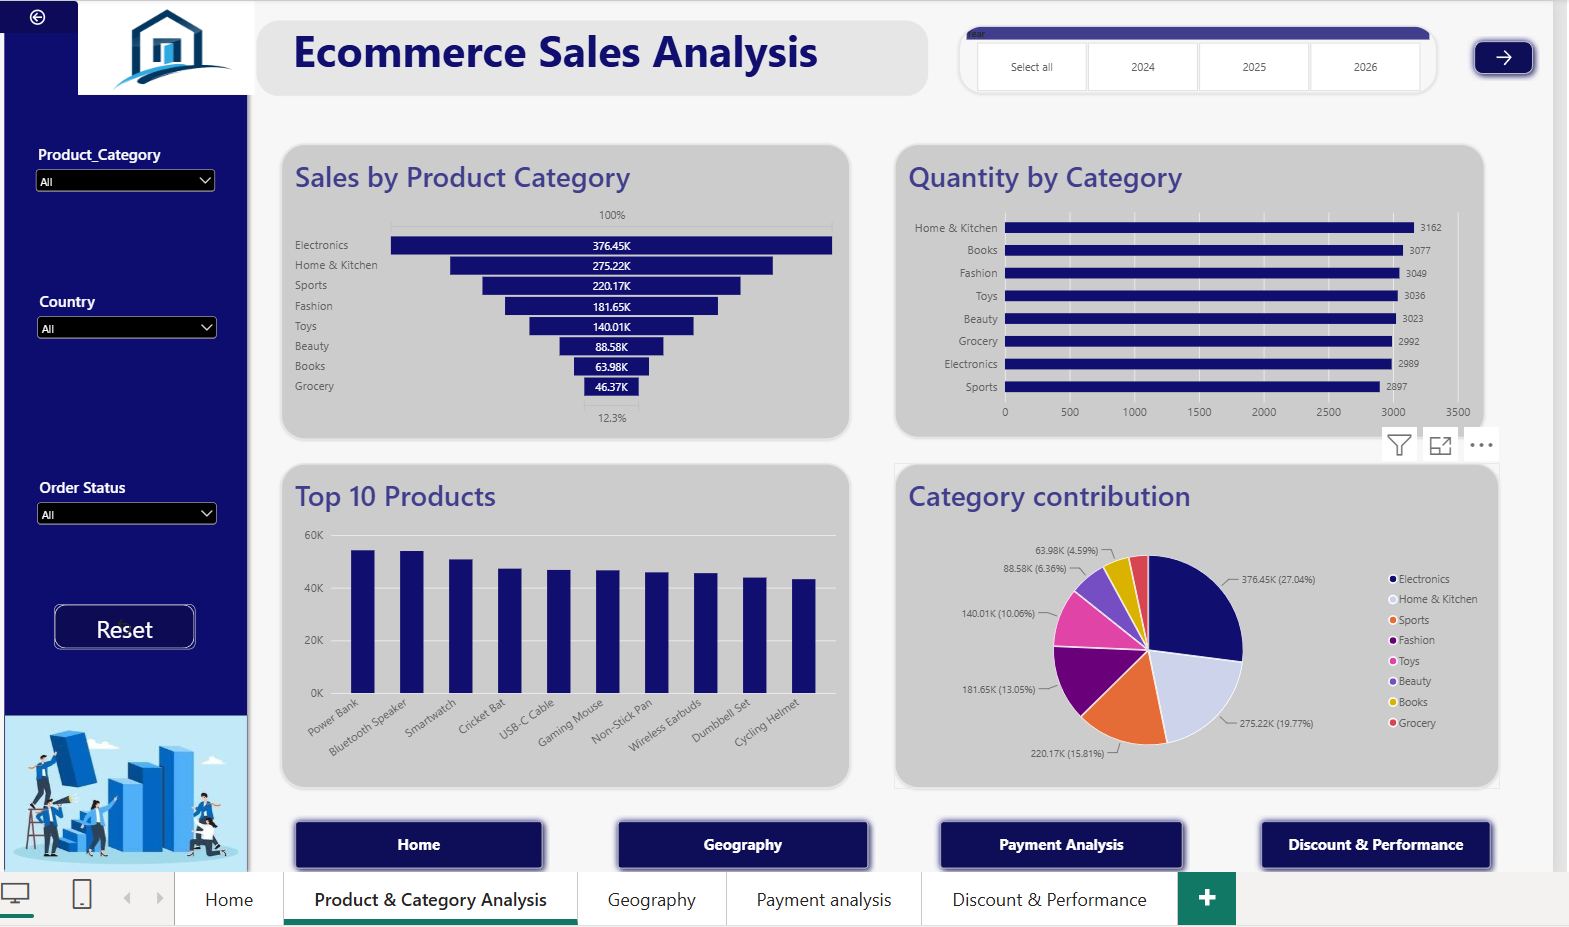

What the dashboard file says about the page in this screenshot:
{"tool":"powerbi","page":{"name":"Product & Category Analysis","canvas":[1920,1080],"ordinal":1},"visuals":[{"type":"textbox","box":[320.3,25,829,93.1],"z":0},{"type":"funnel","title":"Sales by Product Category","fields":{"Category":["product_details.Product_Category"],"Y":["Sales_details.Total_sales"]},"box":[350,176,704,366],"z":1000},{"type":"shape","box":[0,2.9,317.8,1077.5],"z":2000},{"type":"slicer","title":"Total Sales","fields":{"Values":["Sales_details.Order_Date.Variation.Date Hierarchy.Year"]},"box":[1186.3,29.7,591.3,85.3],"z":3000},{"type":"slicer","fields":{"Values":["product_details.Product_Category"]},"box":[42.6,175.3,231.7,153.3],"z":4000},{"type":"slicer","fields":{"Values":["Location_details.Country"]},"box":[45,357.6,231.7,168.3],"z":5000},{"type":"slicer","fields":{"Values":["Sales_details.Order_Status_Consistency"]},"box":[45,587.4,231.7,138.3],"z":6000},{"type":"clusteredBarChart","title":"Quantity by Category","fields":{"Y":["Sales_details.Total Quantity"],"Category":["product_details.Product_Category"]},"box":[1108,176,730,364],"z":7000},{"type":"columnChart","title":"Top 10 Products","fields":{"Category":["product_details.Product_Name"],"Y":["Sales_details.Total_sales"]},"box":[350,570,704,402],"z":8000},{"type":"pieChart","title":"Category contribution","fields":{"Category":["product_details.Product_Category"],"Y":["Sales_details.Total_sales"]},"box":[1108,570,748,402],"z":9000},{"type":"actionButton","box":[0,0,100,40],"z":10000},{"type":"actionButton","box":[1814.3,40.1,90.3,58.2],"z":11000},{"type":"actionButton","title":"Product & Category Analysis","box":[359.3,1003.5,323.1,76.3],"z":12000},{"type":"actionButton","title":"Product & Category Analysis","box":[756.6,1003.5,327.1,76.3],"z":13000},{"type":"actionButton","title":"Product & Category Analysis","box":[1156,1003.5,317.1,76.3],"z":14000},{"type":"actionButton","title":"Product & Category Analysis","box":[1551.4,1003.5,301,76.3],"z":15000},{"type":"actionButton","title":"Reset","box":[71.1,743.7,174.6,56.2],"z":16000},{"type":"image","box":[99.5,0,217.9,116.1],"z":17000},{"type":"image","box":[9.3,882.3,300.3,198.3],"z":18000}]}

Visuals, with their boxes on the page's 1920x1080 design canvas (x1, y1, x2, y2). These are canvas units, not pixel positions in the 1569x927 screenshot, which may show the page scaled, cropped or inside an application window:
textbox: pyautogui.locateOnScreen(320, 25, 1149, 118)
"Sales by Product Category" funnel: pyautogui.locateOnScreen(350, 176, 1054, 542)
shape: pyautogui.locateOnScreen(0, 3, 318, 1080)
"Total Sales" slicer: pyautogui.locateOnScreen(1186, 30, 1778, 115)
slicer - product_details.Product_Category: pyautogui.locateOnScreen(43, 175, 274, 329)
slicer - Location_details.Country: pyautogui.locateOnScreen(45, 358, 277, 526)
slicer - Sales_details.Order_Status_Consistency: pyautogui.locateOnScreen(45, 587, 277, 726)
"Quantity by Category" clusteredBarChart: pyautogui.locateOnScreen(1108, 176, 1838, 540)
"Top 10 Products" columnChart: pyautogui.locateOnScreen(350, 570, 1054, 972)
"Category contribution" pieChart: pyautogui.locateOnScreen(1108, 570, 1856, 972)
actionButton: pyautogui.locateOnScreen(0, 0, 100, 40)
actionButton: pyautogui.locateOnScreen(1814, 40, 1905, 98)
"Product & Category Analysis" actionButton: pyautogui.locateOnScreen(359, 1004, 682, 1080)
"Product & Category Analysis" actionButton: pyautogui.locateOnScreen(757, 1004, 1084, 1080)
"Product & Category Analysis" actionButton: pyautogui.locateOnScreen(1156, 1004, 1473, 1080)
"Product & Category Analysis" actionButton: pyautogui.locateOnScreen(1551, 1004, 1852, 1080)
"Reset" actionButton: pyautogui.locateOnScreen(71, 744, 246, 800)
image: pyautogui.locateOnScreen(100, 0, 317, 116)
image: pyautogui.locateOnScreen(9, 882, 310, 1081)
